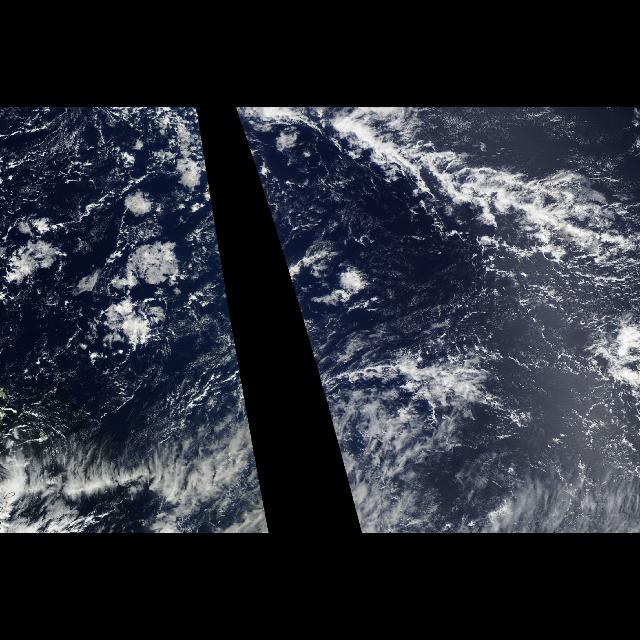Fish: (242, 108, 640, 288), (312, 357, 640, 533), (0, 357, 270, 533)
Flower: (6, 187, 204, 386), (268, 210, 374, 320)
